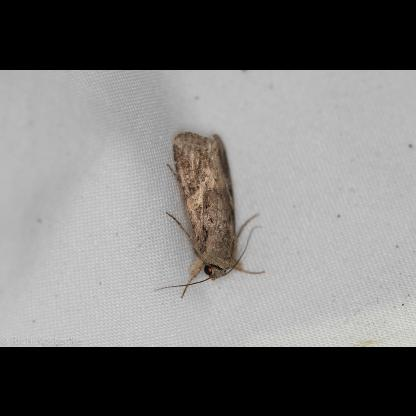Fall Armyworm Moth: (152, 128, 268, 302)
